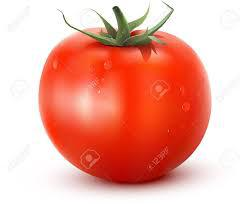tomato: (41, 27, 211, 182)
